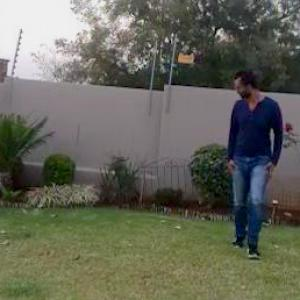follow: (222, 56, 285, 262)
